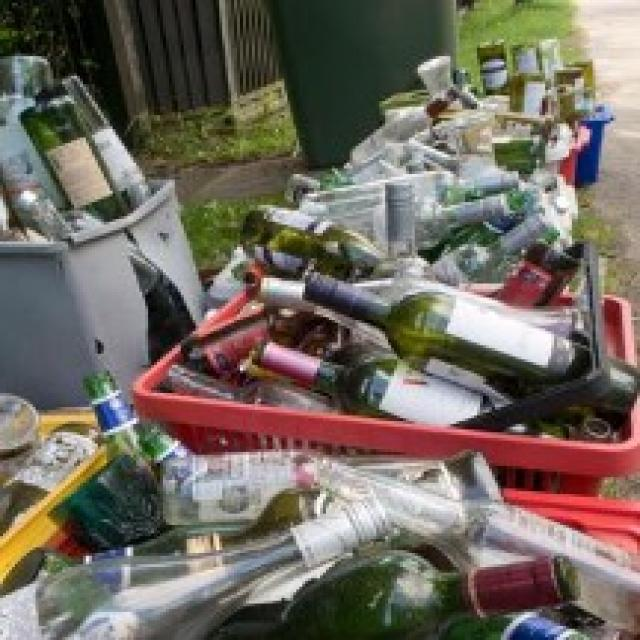electronic: (186, 201, 640, 446)
